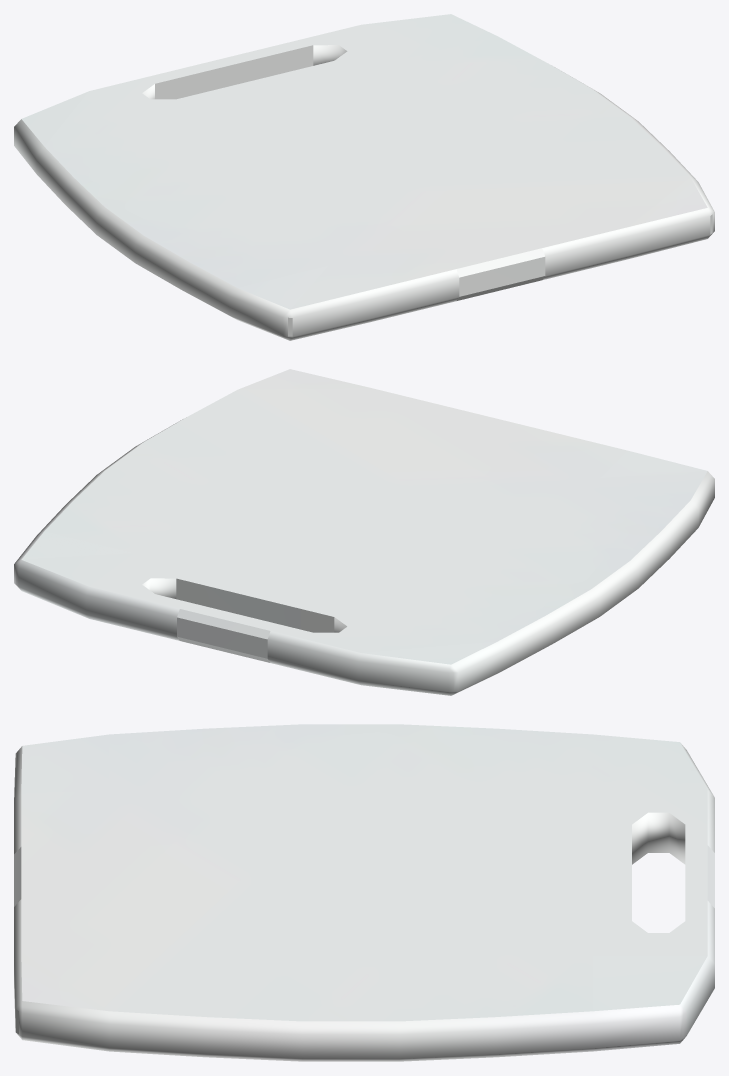
Rendered from Board.fbx.
3 renders of one model, top to bottom at view 1: azimuth 30°, elevation 25°; view 2: azimuth 150°, elevation 25°; view 3: azimuth 270°, elevation 25°, orthographic. The views are drawn at different scales.
Visible parts, largest first — view 1: Board; view 2: Board; view 3: Board.
Boxes of the visible parts, bbox=[...] form: Board: bbox=[14, 14, 714, 340]; Board: bbox=[14, 369, 714, 695]; Board: bbox=[14, 724, 714, 1061].
Size of the model in its own units: 158 by 9.67 by 153.
